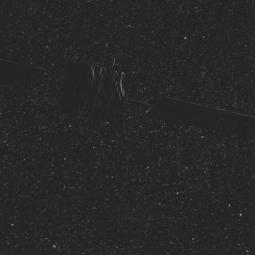smart_1: (50, 41, 169, 126)
